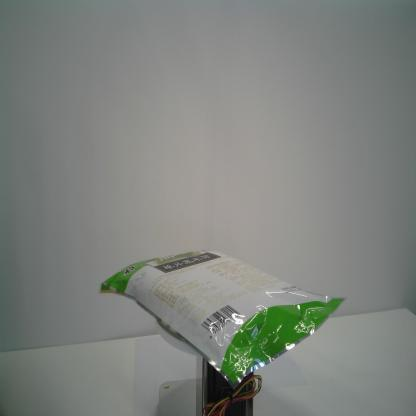Dried Food: (96, 245, 348, 392)
